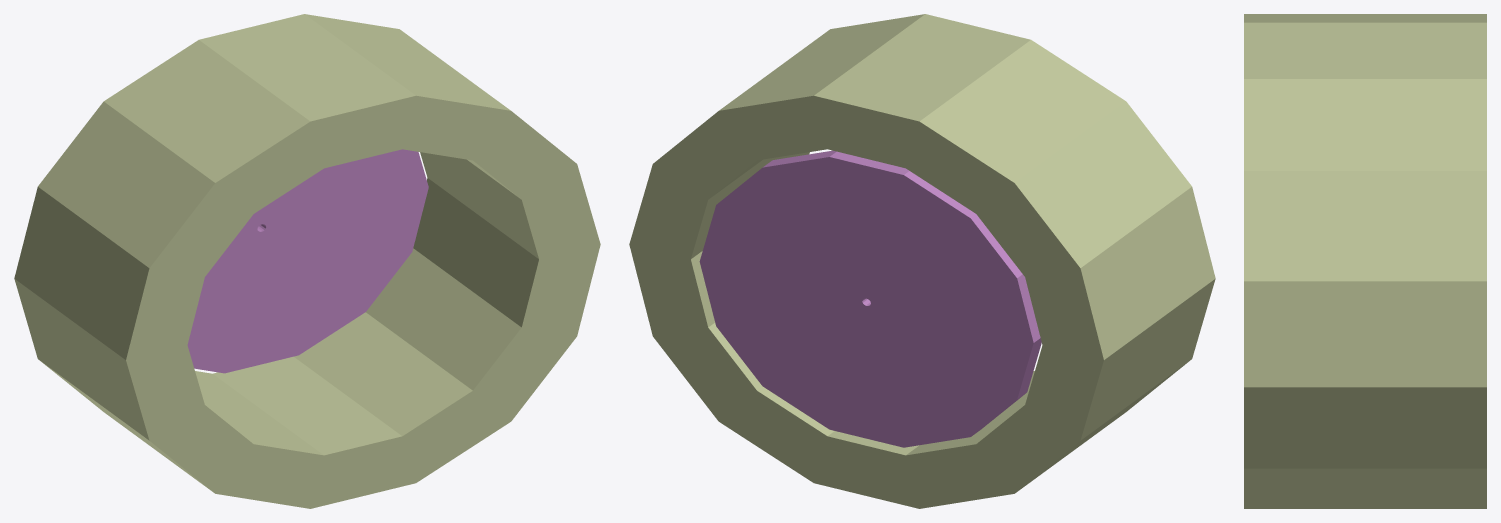
The picture shows the model from 3 angles, left to right: view 1: azimuth 30°, elevation 25°; view 2: azimuth 150°, elevation 25°; view 3: azimuth 270°, elevation 25°; orthographic projection. The views are drawn at different scales.
Visible parts, largest first — view 1: part0, part1; view 2: part0, part1; view 3: part0.
Part boxes in pixels (left/top/right/bottom): part0: left=14, top=14, right=600, bottom=508; part1: left=187, top=149, right=428, bottom=373; part0: left=629, top=14, right=1215, bottom=508; part1: left=699, top=150, right=1041, bottom=447; part0: left=1244, top=14, right=1486, bottom=508.
Bounding box in the file's own units: 5.4 × 4.21 × 2.2.
